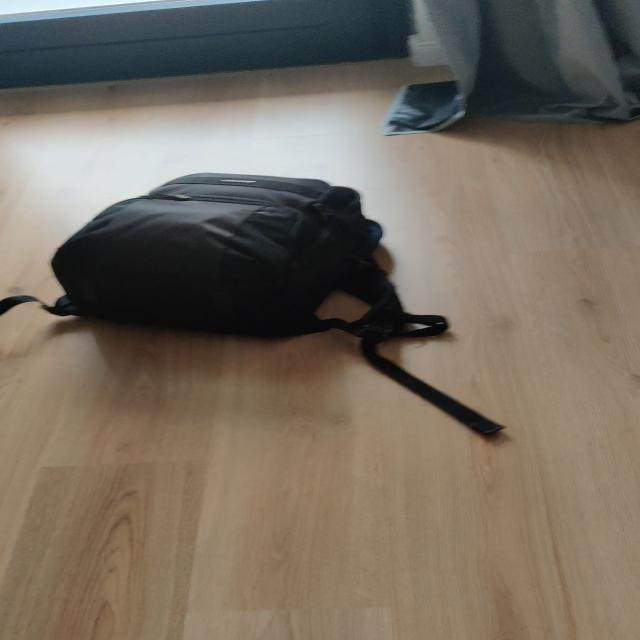backpack: (31, 168, 405, 343)
